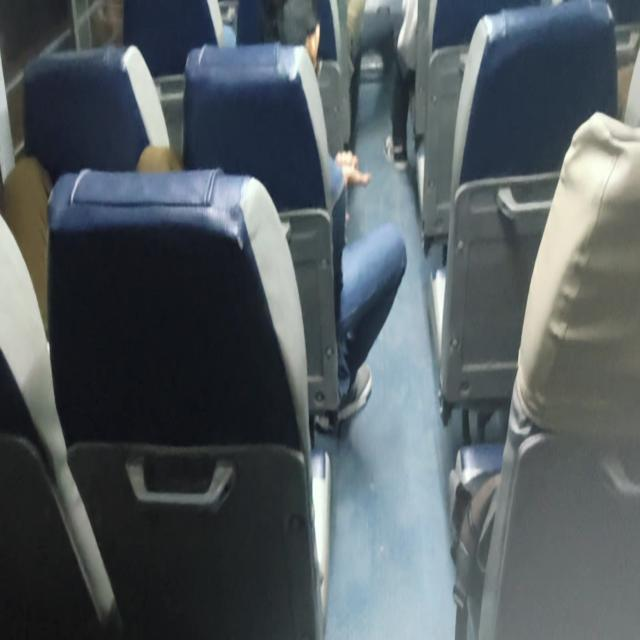person: (247, 0, 325, 94)
